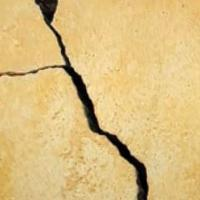crack: (0, 0, 152, 199)
